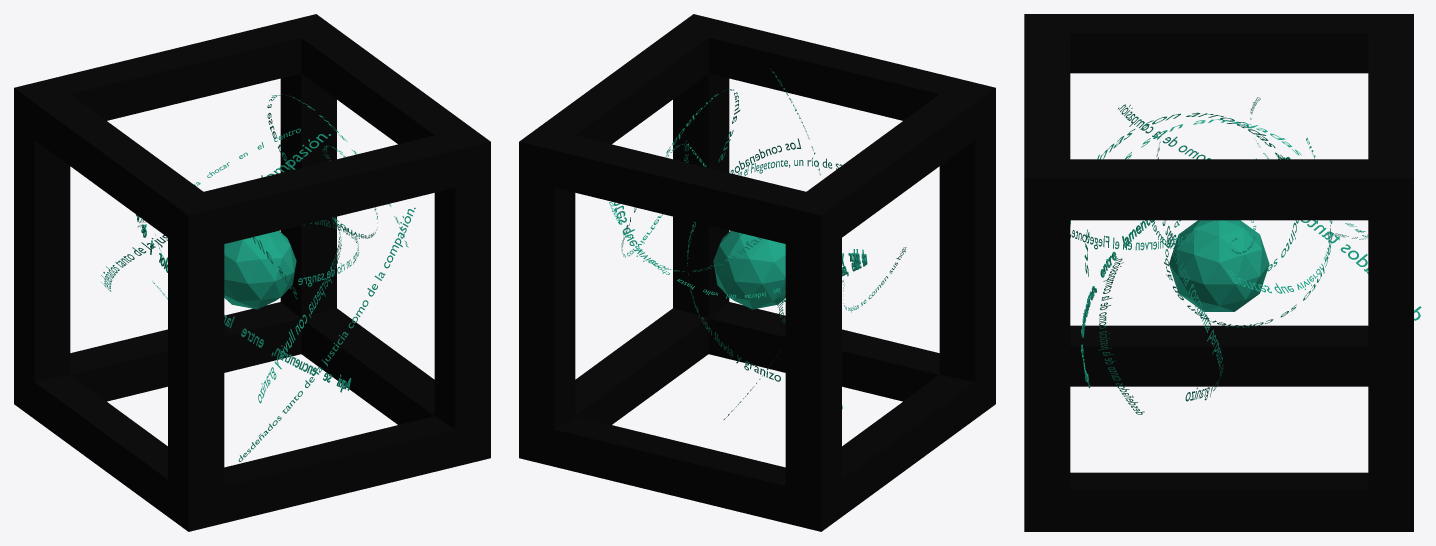
The model's file is objeto_2.fbx.
The picture shows the model from 3 angles, left to right: view 1: azimuth 30°, elevation 25°; view 2: azimuth 150°, elevation 25°; view 3: azimuth 270°, elevation 25°; orthographic projection. The views are drawn at different scales.
Visible parts, largest first — view 1: Cube.002, Icosphere, Text.008, Text.001, Text.002, Text.005, Text.007; view 2: Cube.002, Icosphere, Text.005, Text.007, Text.003; view 3: Cube.002, Icosphere, Text.007, Text.002, Text.005, Text.008, Text.009, Text.001, Text.006, Text.003.
Part boxes in pixels (bbox=[...]): Cube.002: bbox=[14, 14, 490, 531]; Icosphere: bbox=[224, 231, 296, 309]; Text.008: bbox=[238, 207, 415, 461]; Text.001: bbox=[136, 214, 351, 392]; Text.002: bbox=[101, 134, 330, 291]; Text.005: bbox=[258, 175, 341, 403]; Text.007: bbox=[267, 94, 408, 247]; Cube.002: bbox=[519, 14, 995, 531]; Icosphere: bbox=[713, 231, 785, 309]; Text.005: bbox=[687, 138, 800, 381]; Text.007: bbox=[621, 89, 740, 257]; Text.003: bbox=[614, 202, 761, 271]; Cube.002: bbox=[1024, 14, 1413, 531]; Icosphere: bbox=[1169, 220, 1269, 311]; Text.007: bbox=[1084, 119, 1332, 327]; Text.002: bbox=[1118, 104, 1421, 320]; Text.005: bbox=[1156, 141, 1223, 401]; Text.008: bbox=[1098, 258, 1144, 414]; Text.009: bbox=[1070, 112, 1298, 271]; Text.001: bbox=[1081, 155, 1290, 388]; Text.006: bbox=[1070, 230, 1197, 250]; Text.003: bbox=[1227, 137, 1331, 293].
Size of the model in its own units: 212 by 216 by 216.
